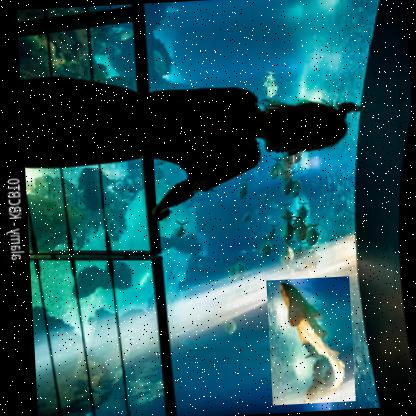zebra_shark: (264, 275, 354, 405)
